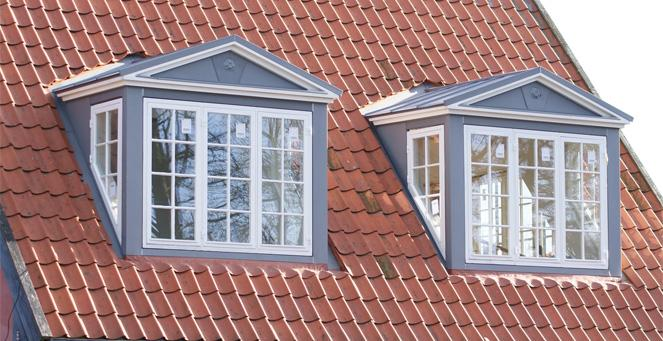kvist windows: (18, 27, 642, 294)
